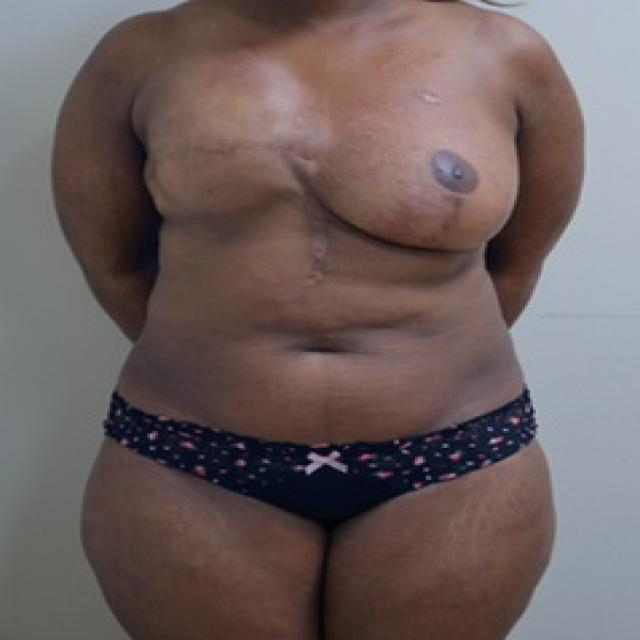Seno herido: (321, 78, 531, 266), (120, 78, 315, 266)
